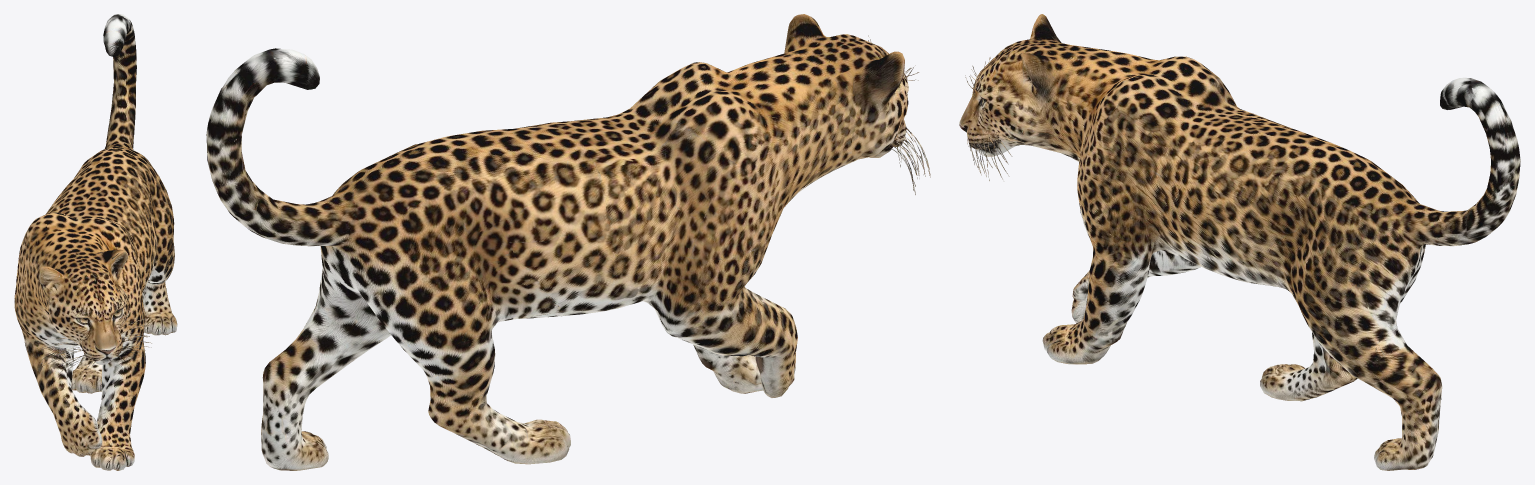
File: leopard.glb
3 renders of one model, left to right at view 1: azimuth 30°, elevation 25°; view 2: azimuth 150°, elevation 25°; view 3: azimuth 270°, elevation 25°, orthographic. The views are drawn at different scales.
Bounding box in the file's own units: 1.41 × 1.41 × 1.9.
Materials: 1 (1 with a texture image).
